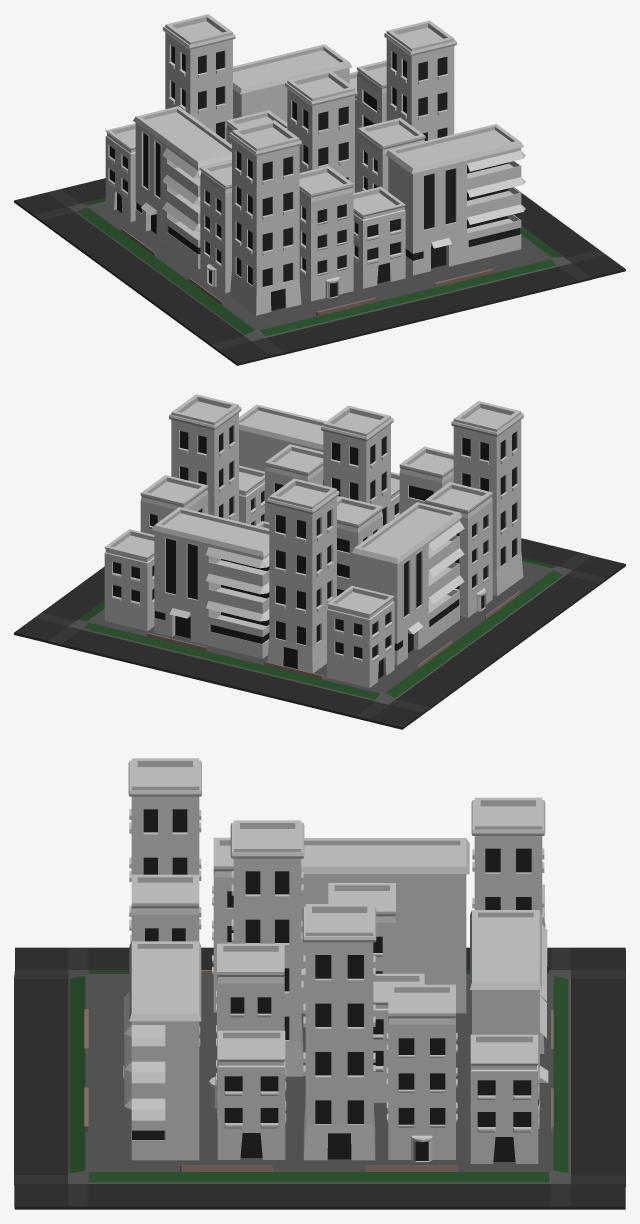
File: Edificios Horizontales todo en Uno.fbx
3 renders of one model, top to bottom at view 1: azimuth 30°, elevation 25°; view 2: azimuth 150°, elevation 25°; view 3: azimuth 270°, elevation 25°, orthographic. The views are drawn at different scales.
Parts seen in each view (by area): view 1: Edificio Mediano; view 2: Edificio Mediano; view 3: Edificio Mediano.
Part boxes in pixels (<box>): Edificio Mediano: <box>14,14,625,365</box>; Edificio Mediano: <box>14,394,625,729</box>; Edificio Mediano: <box>14,758,625,1209</box>.
Size of the model in its own units: 4190 by 1762 by 4182.
